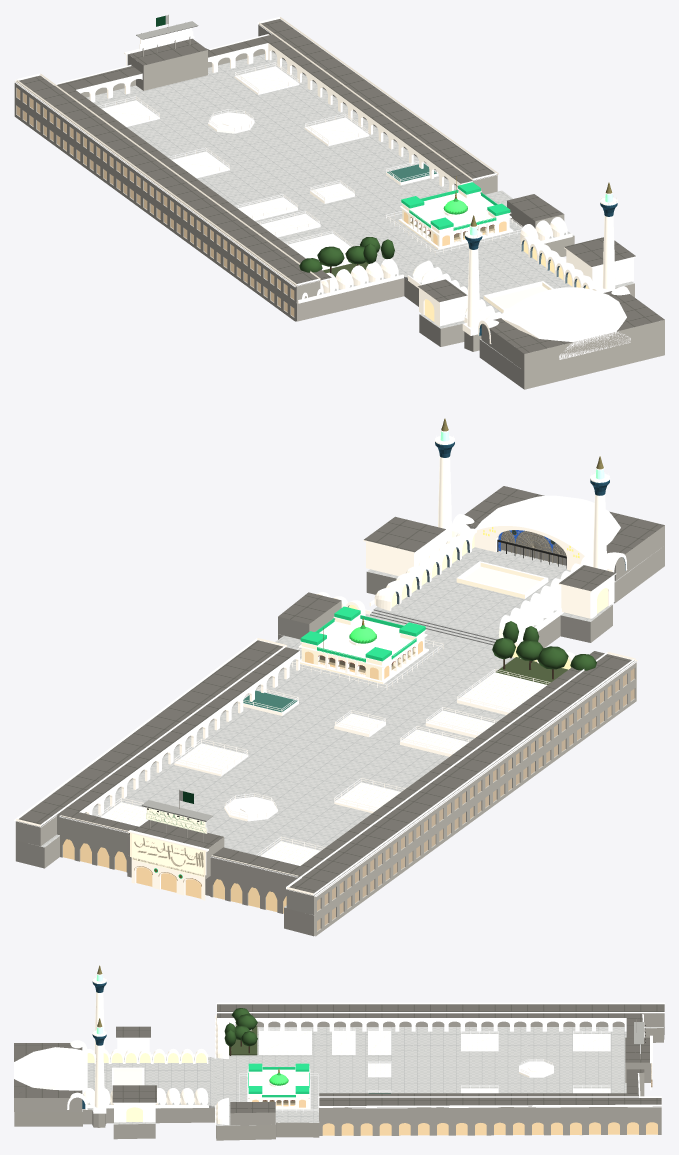
Rendered from data_darbar.glb.
The picture shows the model from 3 angles, top to bottom: view 1: azimuth 30°, elevation 25°; view 2: azimuth 150°, elevation 25°; view 3: azimuth 270°, elevation 25°; orthographic projection. The views are drawn at different scales.
Parts seen in each view (by area): view 1: m_dd_marble_floor, m_dd_white, m_dd_grey_roof, m_dd_street_wall, m_dd_skylight, m_dd_window, m_dd_tomb_marble, m_dd_tree, m_dd_board_green, m_dd_gallery_back; view 2: m_dd_marble_floor, m_dd_white, m_dd_grey_roof, m_dd_street_wall, m_dd_skylight, m_dd_window, m_dd_tomb_marble, m_dd_entrance_signs, m_dd_tree, m_dd_gallery_back, m_dd_street_arch, m_dd_board_green (+2 smaller); view 3: m_dd_marble_floor, m_dd_white, m_dd_street_wall, m_dd_grey_roof, m_dd_skylight, m_dd_street_arch, m_dd_gallery_back, m_dd_tree, m_dd_tomb_marble, m_dd_board_green, m_dd_bed.
Boxes of the visible parts, x1,y1,x2,y2 form: m_dd_marble_floor: (86,52,634,368); m_dd_white: (14,17,636,359); m_dd_grey_roof: (17,19,664,353); m_dd_street_wall: (14,14,664,389); m_dd_skylight: (102,66,367,267); m_dd_window: (16,88,294,316); m_dd_tomb_marble: (126,54,553,312); m_dd_tree: (299,237,394,272); m_dd_board_green: (401,182,510,230); m_dd_gallery_back: (424,241,588,321); m_dd_marble_floor: (39,547,659,915); m_dd_white: (14,429,637,900); m_dd_grey_roof: (16,486,664,895); m_dd_street_wall: (15,524,664,936); m_dd_skylight: (101,672,546,865); m_dd_window: (317,668,634,930); m_dd_tomb_marble: (130,561,548,875); m_dd_entrance_signs: (132,807,206,877); m_dd_tree: (492,621,596,670); m_dd_gallery_back: (348,535,607,669); m_dd_street_arch: (63,839,286,913); m_dd_board_green: (154,606,425,878); m_dd_marble_floor: (82,1027,663,1125); m_dd_white: (14,973,664,1124); m_dd_street_wall: (14,1013,664,1140); m_dd_grey_roof: (14,1004,664,1113); m_dd_skylight: (259,1031,609,1093); m_dd_street_arch: (322,1122,657,1135); m_dd_gallery_back: (87,1053,206,1121); m_dd_tree: (224,1008,257,1046); m_dd_tomb_marble: (112,1063,652,1109); m_dd_board_green: (248,1063,309,1097); m_dd_bed: (229,1025,257,1055).
Bounding box in the file's own units: 95.81 × 44 × 241.
37 materials, 5 textured.
